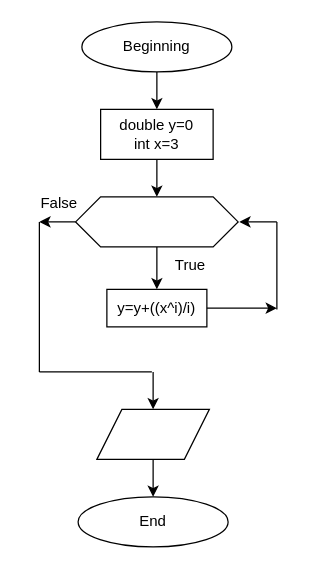
Some shapes in this 309 by 569 pixel diagram are drawn without their labels. Each missing label, with the centre of its shape:
for(int i=1; i<=10; i++): the point at 156,221
Output y: the point at 152,433
